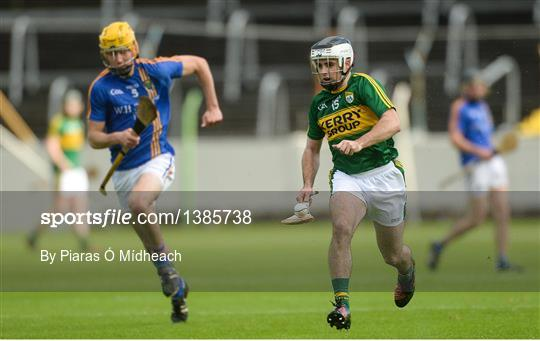hurley: (96, 95, 160, 196), (277, 190, 321, 225)
